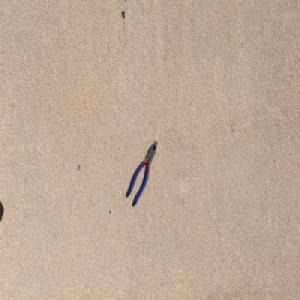Pliers: (126, 138, 158, 205)
